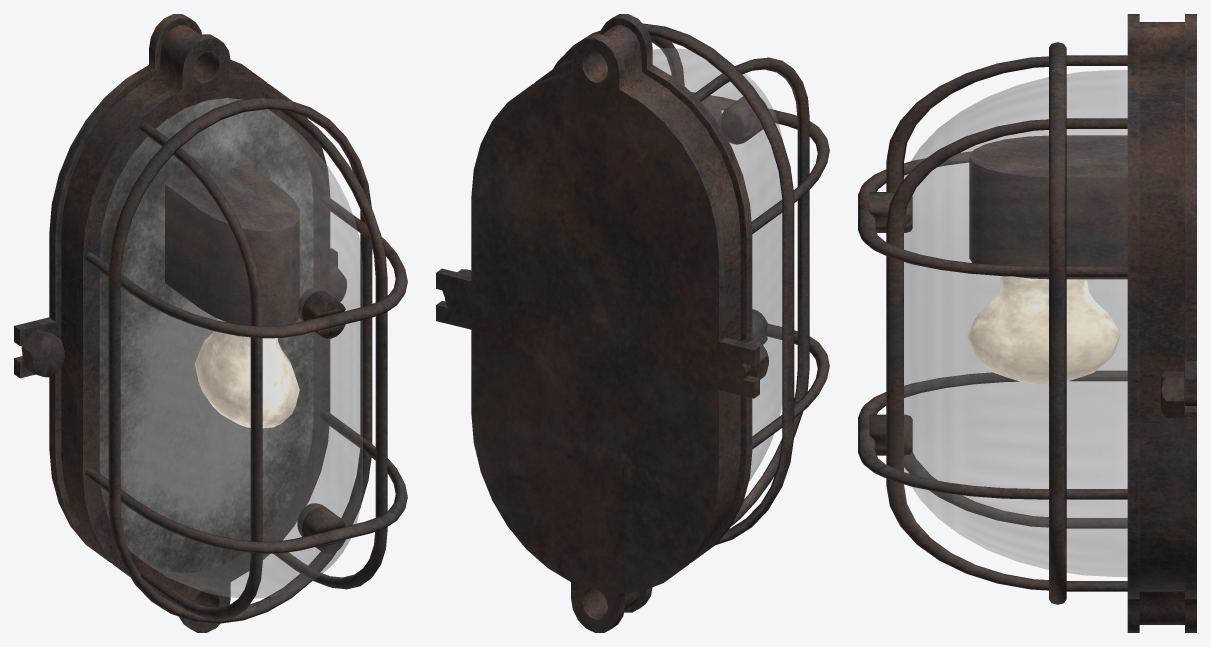
File: wall_lamp.glb
3 renders of one model, left to right at view 1: azimuth 30°, elevation 25°; view 2: azimuth 150°, elevation 25°; view 3: azimuth 270°, elevation 25°, orthographic. The views are drawn at different scales.
Visible parts, largest first — view 1: wall_lamp; view 2: wall_lamp; view 3: wall_lamp.
Part boxes in pixels (x1,y1,x2,y2): wall_lamp: [14, 14, 407, 632]; wall_lamp: [436, 14, 829, 632]; wall_lamp: [858, 14, 1196, 632].
Size of the model in its own units: 0.28 by 0.5 by 0.25.
2 materials, 2 textured.
